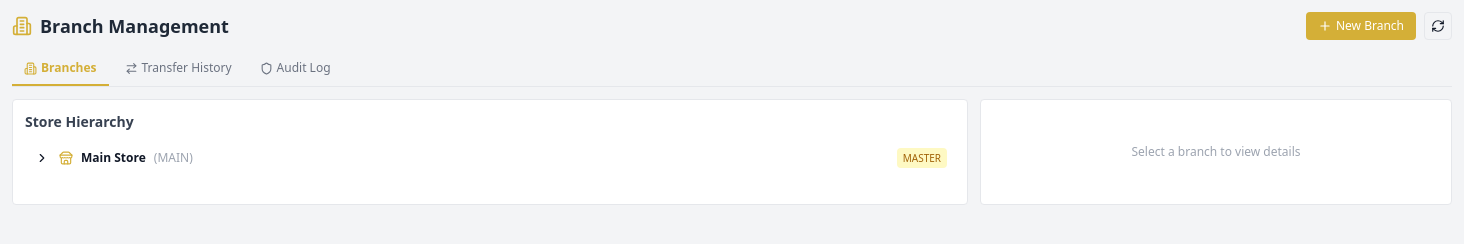
it: BranchManagement — Disable/Enable Branch › shows child branches when master is expanded
Check: the text "Main Store" is shown, box [81,150,146,166]
# Find and click the expand chevron button (the one with class p-0.5 inside the master row)
Click the button without text next to "Main Store".
click(42, 158)  # box [33,149,51,167]
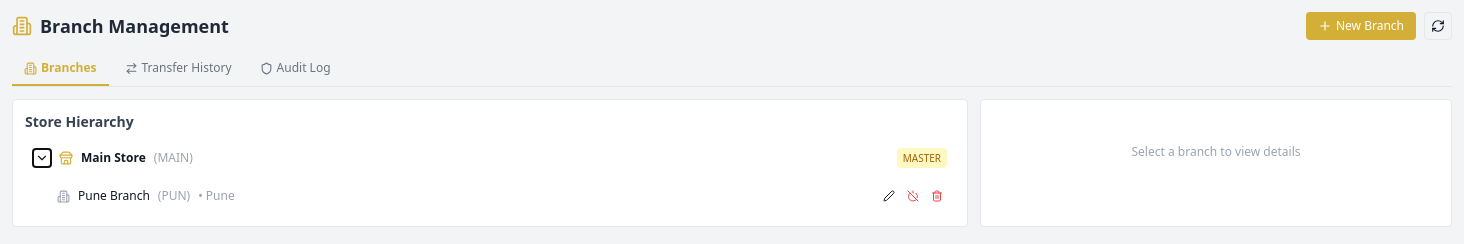
Check: the text "Pune Branch" is shown, box [78,188,150,204]
